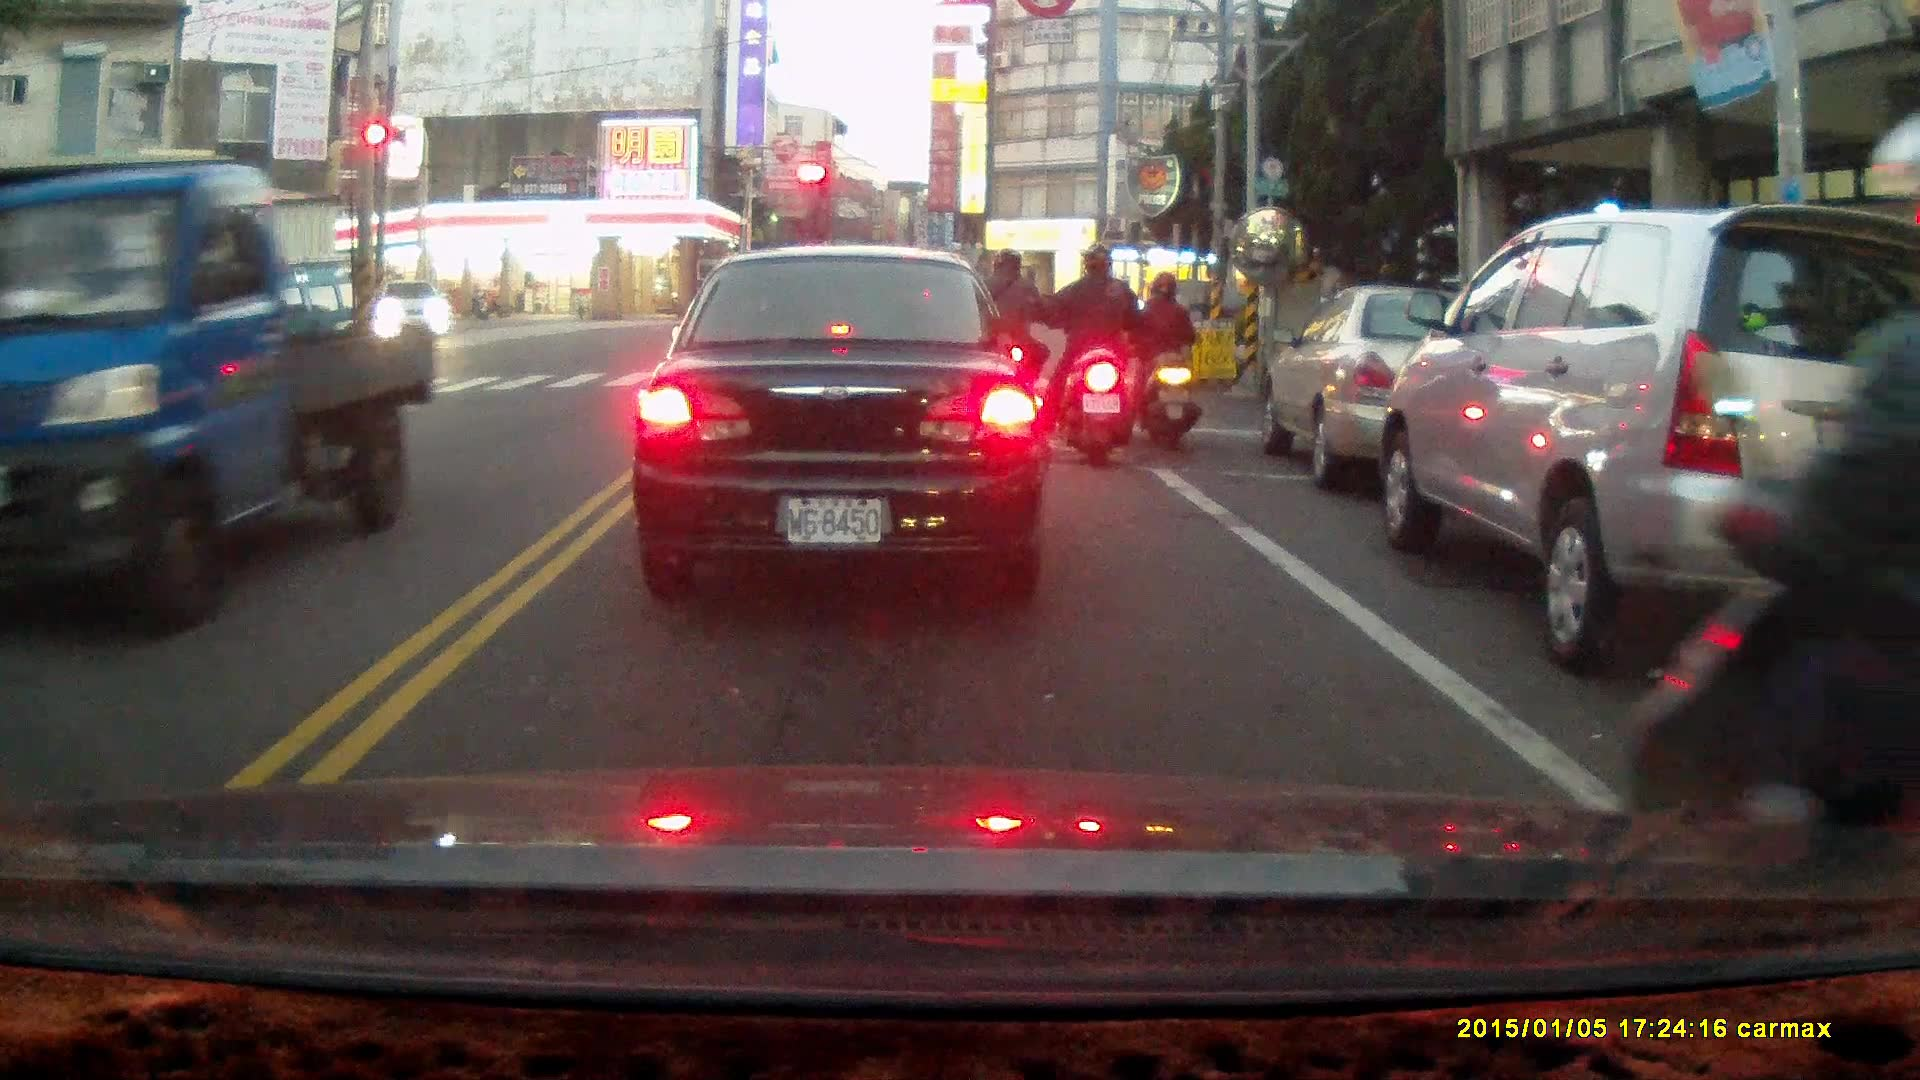rider: (1618, 113, 1920, 987), (1037, 245, 1143, 467), (964, 253, 1047, 432), (1129, 273, 1198, 451)
vehicle: (1378, 201, 1920, 677), (1, 158, 438, 636), (633, 249, 1042, 601), (1257, 286, 1564, 493), (205, 265, 389, 396)
